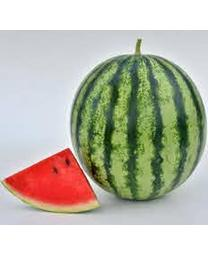watermelon: (71, 51, 206, 204), (1, 148, 105, 213)
